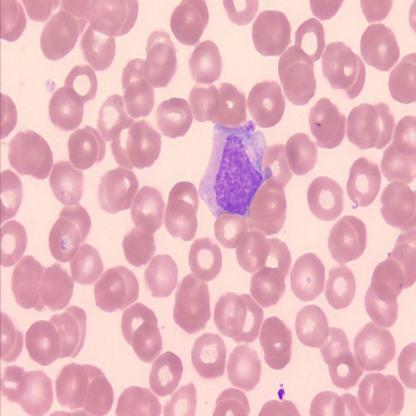Myelocyte: (200, 122, 272, 215)
